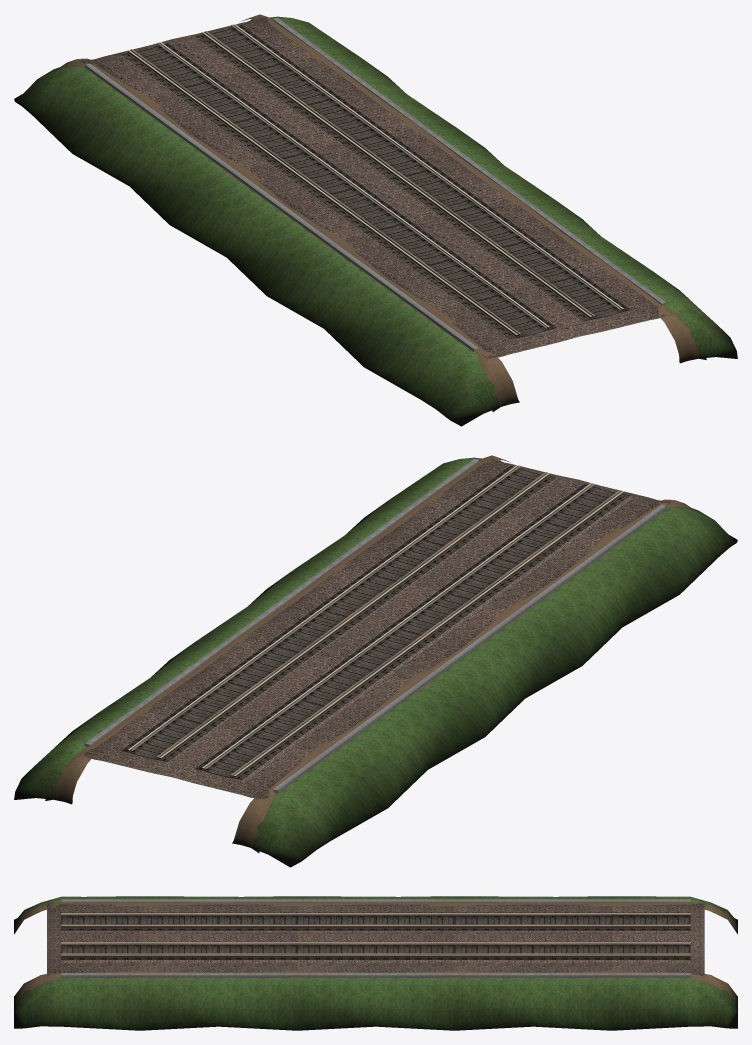
Rendered from KI_RAIL00_100_KQ.glb.
3 views of the same model, one above another, from view 1: azimuth 30°, elevation 25°; view 2: azimuth 150°, elevation 25°; view 3: azimuth 270°, elevation 25° (orthographic). The views are drawn at different scales.
Parts seen in each view (by area): view 1: Jari_All, R000_RG_R, R000_RG_L; view 2: Jari_All, R000_RG_R, R000_RG_L; view 3: Jari_All, R000_RG_L, R000_RG_R.
Boxes of the visible parts, x1=… form: Jari_All: x1=14, y1=14, x2=737, y2=426; R000_RG_R: x1=130, y1=31, x2=594, y2=335; R000_RG_L: x1=156, y1=24, x2=620, y2=327; Jari_All: x1=14, y1=455, x2=737, y2=867; R000_RG_R: x1=157, y1=472, x2=621, y2=776; R000_RG_L: x1=130, y1=465, x2=595, y2=769; Jari_All: x1=14, y1=896, x2=737, y2=1030; R000_RG_L: x1=61, y1=924, x2=690, y2=954; R000_RG_R: x1=61, y1=914, x2=690, y2=944.
Bounding box in the file's own units: 46.85 × 7.05 × 115.
9 materials, 8 textured.
